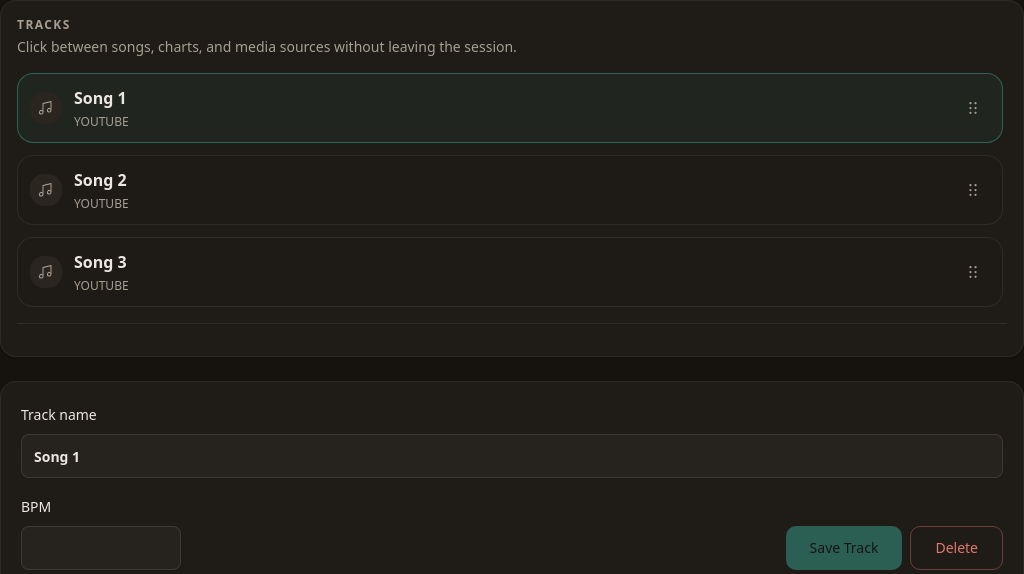
it: allows consecutive track deletions, including the last track
This screenshot has width=1024, height=574.
Click the button "Delete". click: [957, 548]
box: [910,526,1003,570]
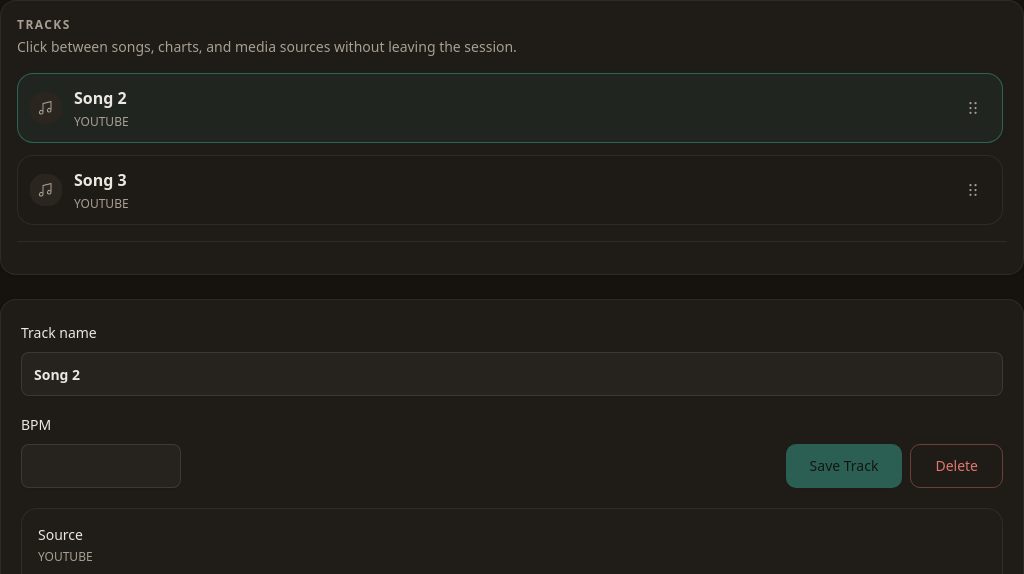
Check: the field labelled "Track name" holds "Song 2", box [21,352,1003,396]
Click the button "Delete". click: [957, 466]
box: [910,444,1003,488]
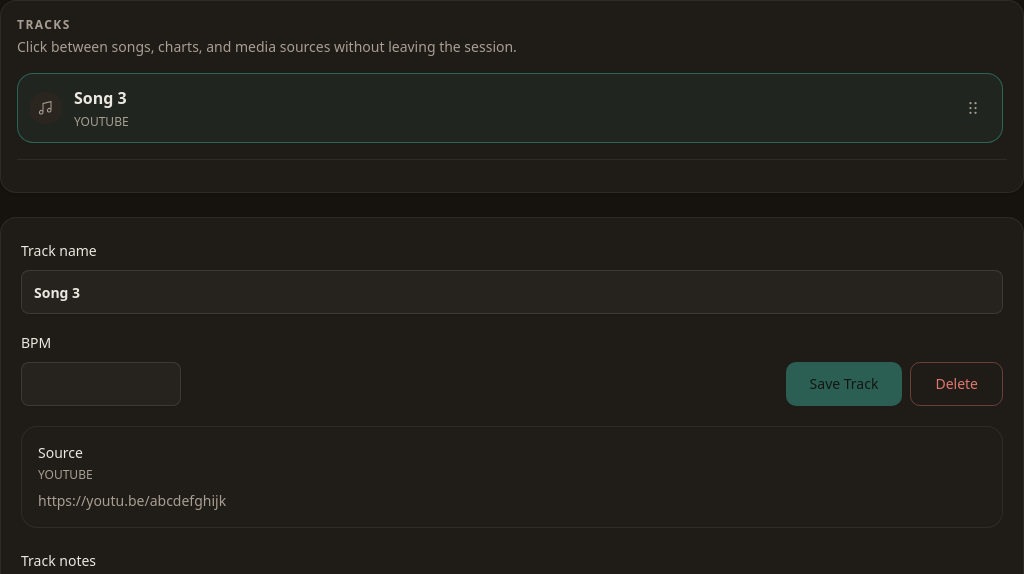
Click the button "Delete". click: [957, 384]
box: [910,362,1003,406]
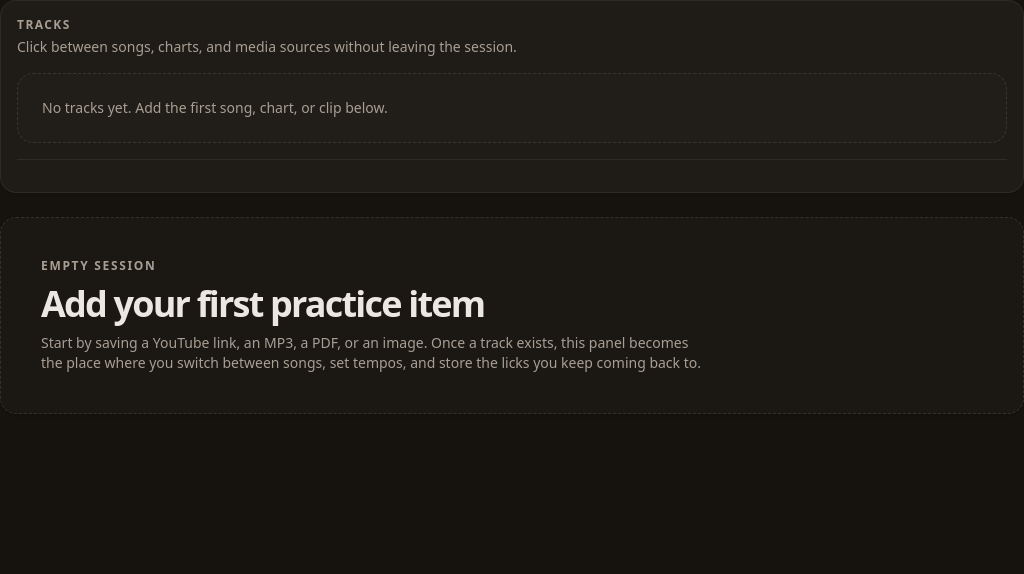
Check: the heading "Add your first practice item" is shown, box [41,279,484,328]
